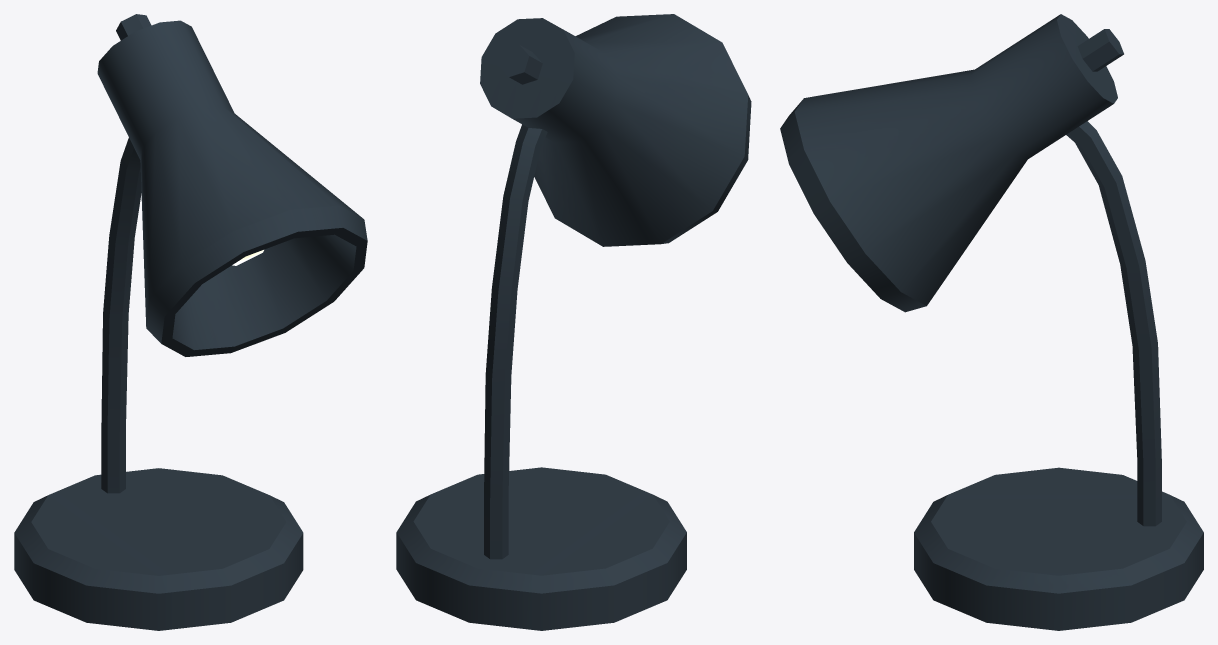
File: Lamp_Conical_Small.fbx
3 renders of one model, left to right at view 1: azimuth 30°, elevation 25°; view 2: azimuth 150°, elevation 25°; view 3: azimuth 270°, elevation 25°, orthographic.
Visible parts, largest first — view 1: Lamp_Conical_Small; view 2: Lamp_Conical_Small; view 3: Lamp_Conical_Small.
Part boxes in pixels (x1=…): Lamp_Conical_Small: x1=14, y1=14, x2=367, y2=630; Lamp_Conical_Small: x1=396, y1=14, x2=751, y2=630; Lamp_Conical_Small: x1=780, y1=14, x2=1203, y2=630.
Size of the model in its own units: 23.59 by 49.34 by 34.47.
